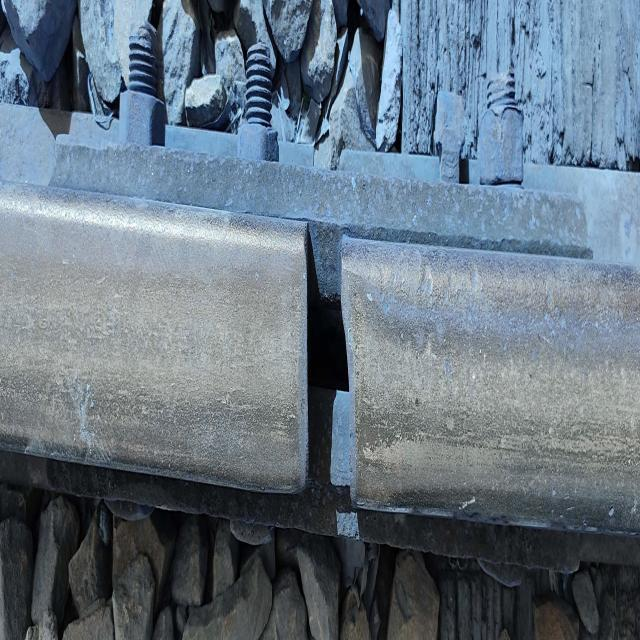Defective Joint: (42, 127, 610, 588)
Good Fasteners: (434, 91, 464, 183)
